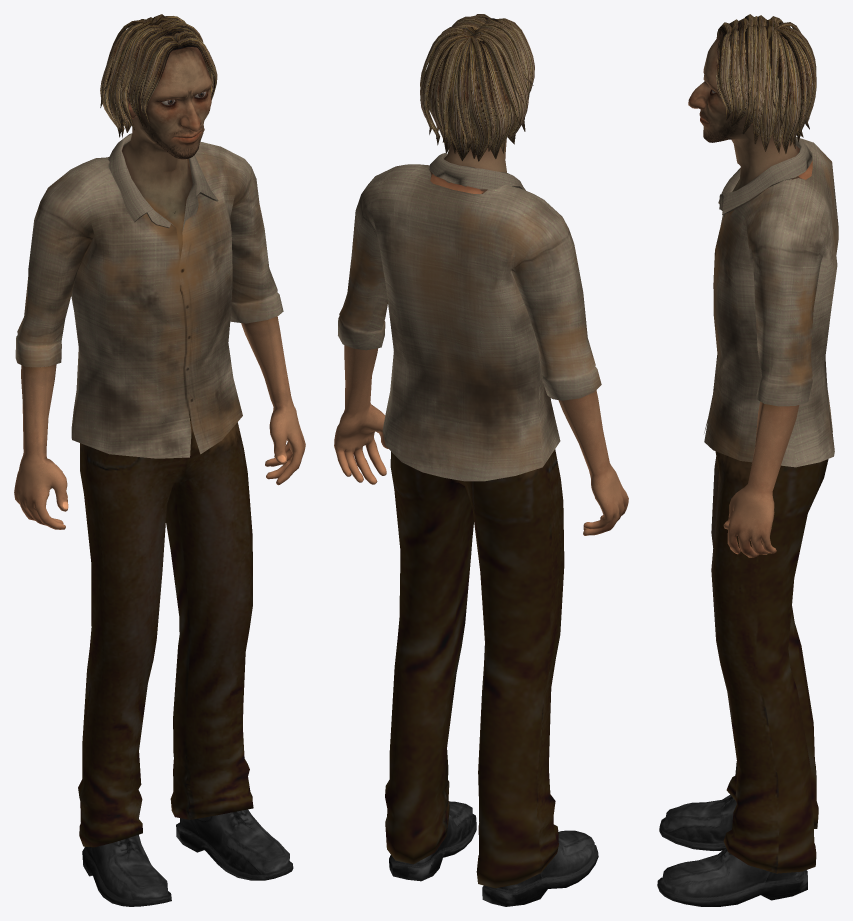
Rendered from anim_pose_customer03.fbx.fbx.
The picture shows the model from 3 angles, left to right: view 1: azimuth 30°, elevation 25°; view 2: azimuth 150°, elevation 25°; view 3: azimuth 270°, elevation 25°; orthographic projection.
Visible parts, largest first — view 1: char4; view 2: char4; view 3: char4.
Part boxes in pixels (x1,y1,x2,y2): char4: (14, 14, 305, 906); char4: (334, 14, 628, 906); char4: (657, 14, 838, 906).
Size of the model in its own units: 0.6113 by 1.76 by 0.3429.
Materials: 1 (1 with a texture image).
